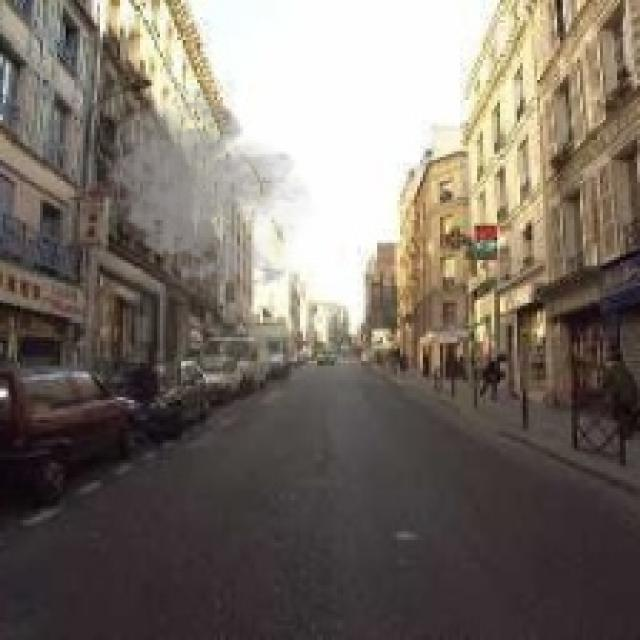smoke: (100, 86, 317, 291)
